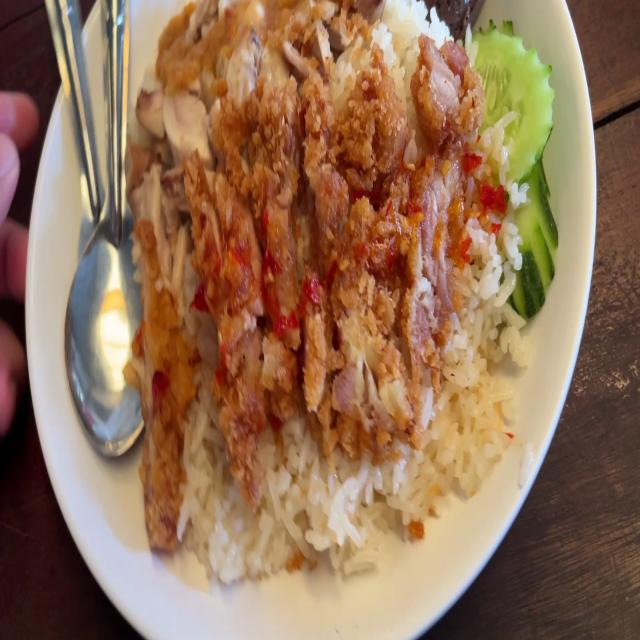boiled_chicken: (146, 0, 362, 95)
boiled_chicken_blood_jelly: (428, 0, 483, 48)
chicken_rice: (121, 0, 548, 574)
cucumber: (467, 15, 551, 307)
fried_chicken: (131, 120, 456, 458)
